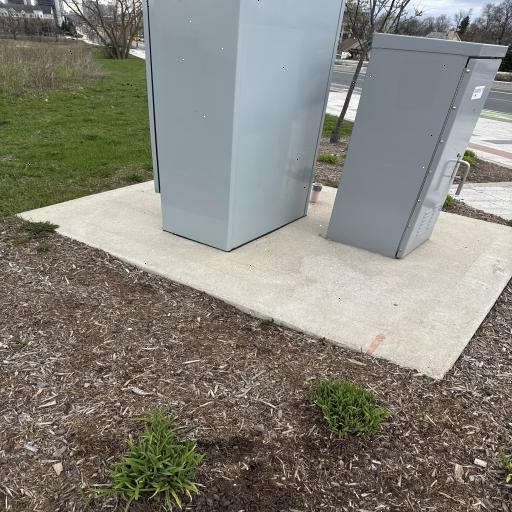Electrical Box: (147, 0, 347, 250), (323, 30, 512, 261)
